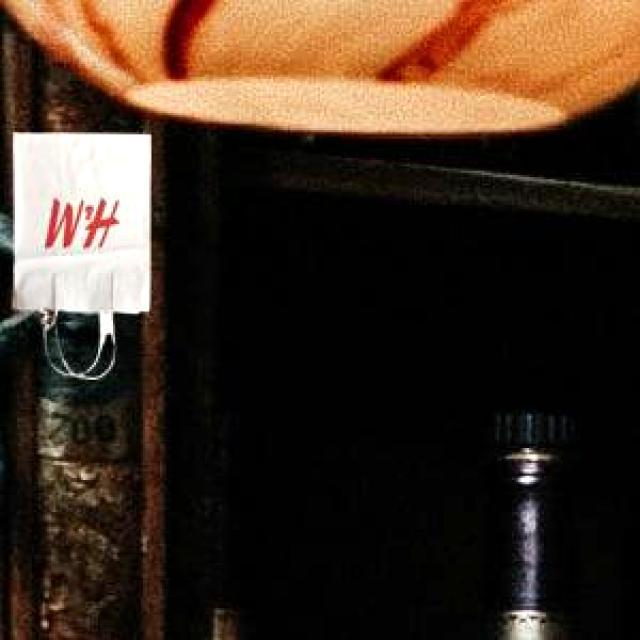Paper_Bag: (10, 129, 148, 345)
